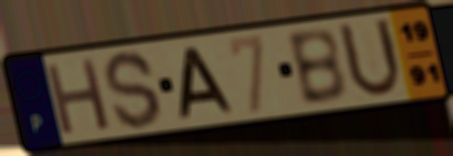7: (226, 34, 270, 116)
A: (177, 45, 238, 120)
B: (283, 25, 350, 109)
H: (42, 55, 114, 139)
S: (100, 48, 165, 132)
U: (334, 16, 405, 102)
